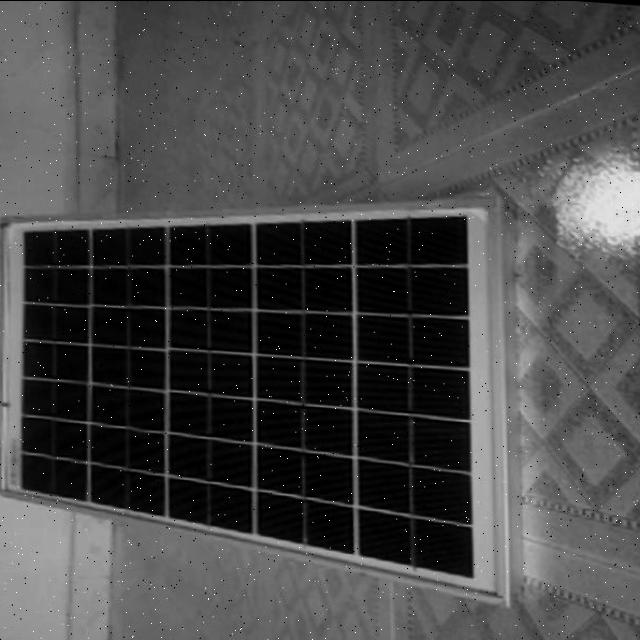Normal Solar Panel: (0, 168, 538, 610)
